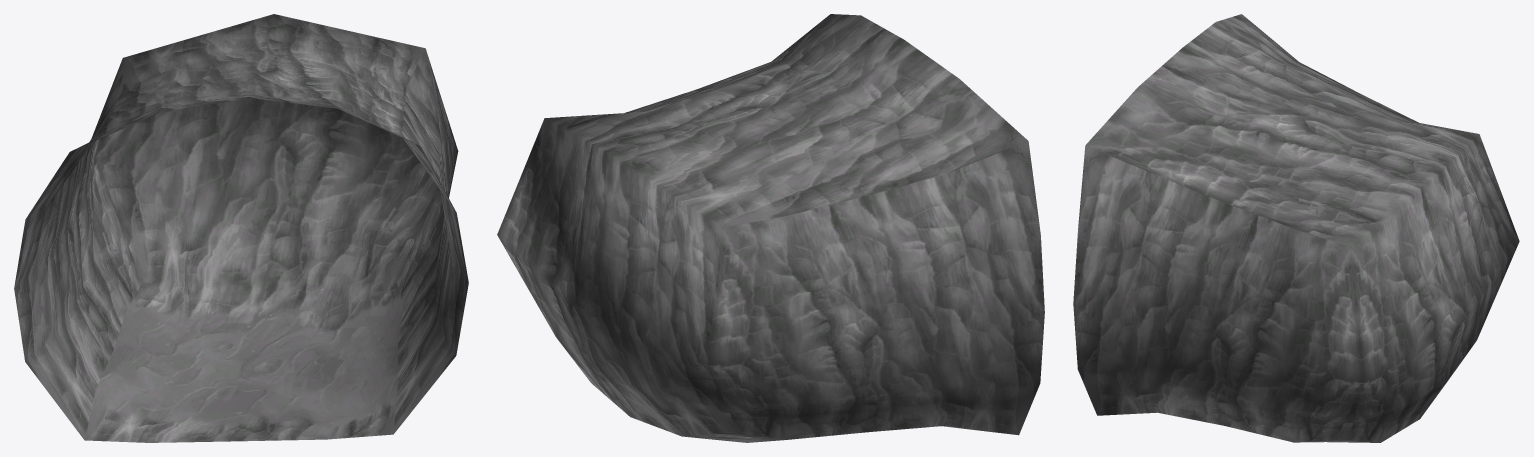
File: SWORDLIGHT20_PS-AREA04_06.fbx
The picture shows the model from 3 angles, left to right: view 1: azimuth 30°, elevation 25°; view 2: azimuth 150°, elevation 25°; view 3: azimuth 270°, elevation 25°; orthographic projection. The views are drawn at different scales.
Parts seen in each view (by area): view 1: SWORDLIGHT20_PS-AREA04_06; view 2: SWORDLIGHT20_PS-AREA04_06; view 3: SWORDLIGHT20_PS-AREA04_06.
Boxes of the visible parts, x1,y1,x2,y2 form: SWORDLIGHT20_PS-AREA04_06: [14, 14, 468, 442]; SWORDLIGHT20_PS-AREA04_06: [497, 14, 1044, 442]; SWORDLIGHT20_PS-AREA04_06: [1073, 14, 1519, 442].
Size of the model in its own units: 77165 by 50140 by 62735.
Materials: 2 (2 with a texture image).
